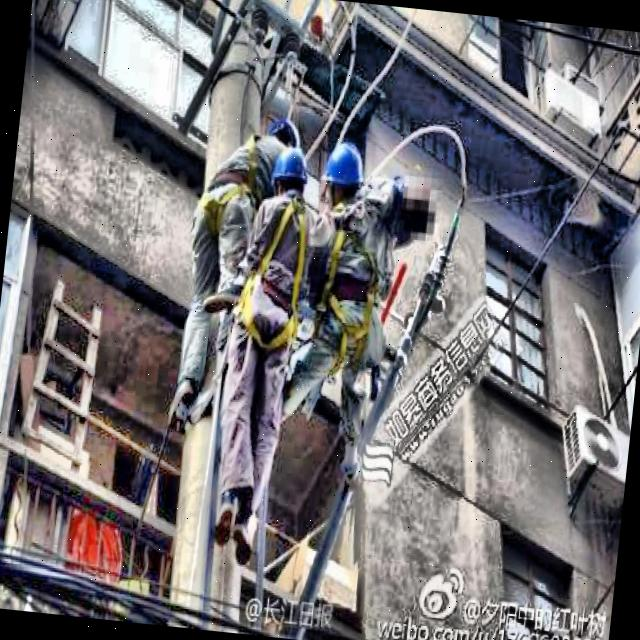helmet: (317, 136, 368, 212), (270, 144, 310, 202), (263, 110, 303, 156)
